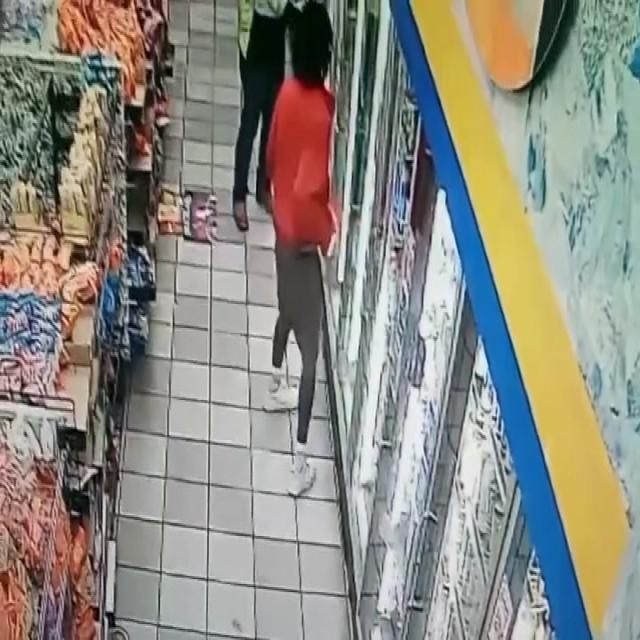Normal: (258, 0, 348, 503)
